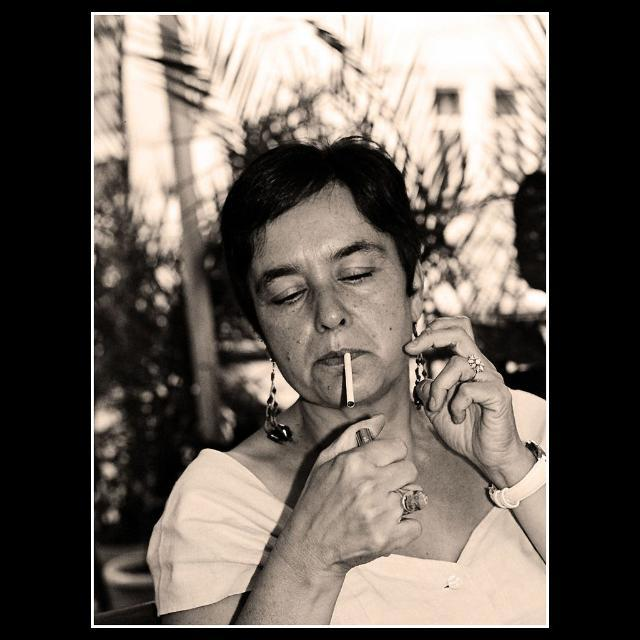rokok: (339, 350, 359, 408)
